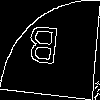B: (24, 25, 61, 75)
